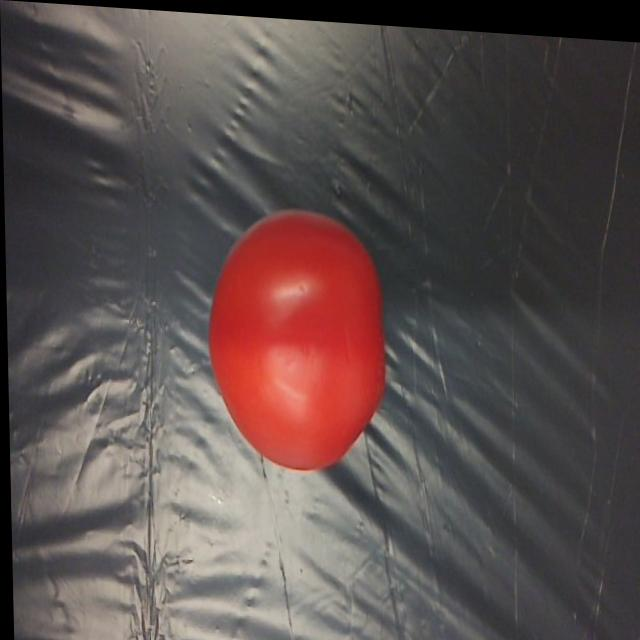kirmizi: (194, 172, 400, 480)
